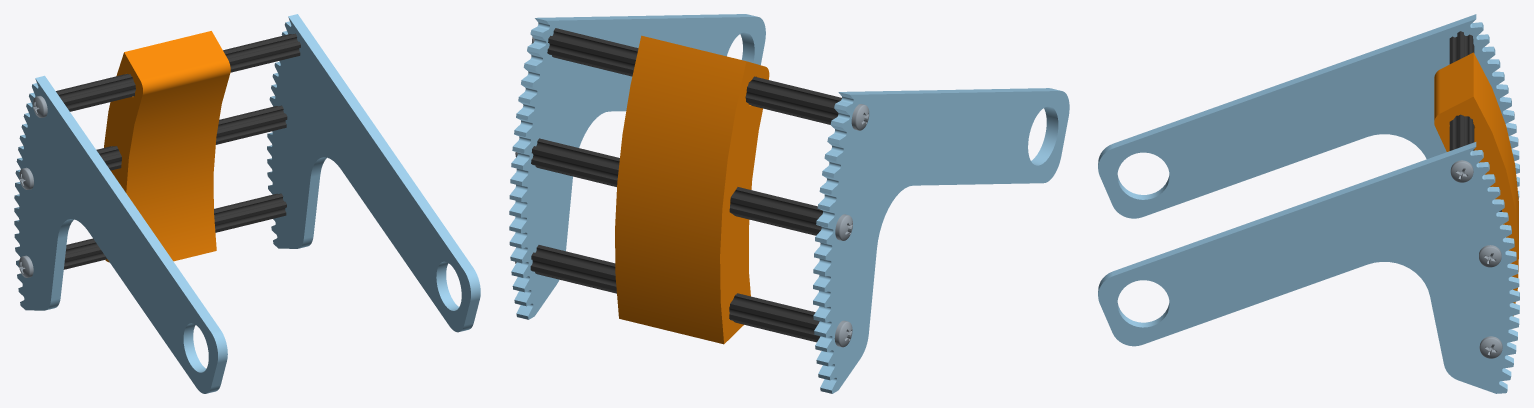
The picture shows the model from 3 angles, left to right: view 1: azimuth 30°, elevation 25°; view 2: azimuth 150°, elevation 25°; view 3: azimuth 270°, elevation 25°; orthographic projection. The views are drawn at different scales.
Visible parts, largest first — view 1: Shooter Rack Plate (×2), Shooter Middle Hood Backing, 1/2" Hex Lite (6.25" L) (×3); view 2: Shooter Rack Plate (×2), Shooter Middle Hood Backing, 1/2" Hex Lite (6.25" L) (×3); view 3: Shooter Rack Plate (×2), Shooter Middle Hood Backing, 1/2" Hex Lite (6.25" L), Pan head machine screw 1/4-20 x 0.625 (×3).
Boxes of the visible parts, <box> form: Shooter Rack Plate (×2): <box>14,14,480,393</box>; Shooter Middle Hood Backing: <box>104,31,230,262</box>; 1/2" Hex Lite (6.25" L) (×3): <box>56,33,300,269</box>; Shooter Rack Plate (×2): <box>509,14,1069,393</box>; Shooter Middle Hood Backing: <box>615,35,769,344</box>; 1/2" Hex Lite (6.25" L) (×3): <box>530,28,841,342</box>; Shooter Rack Plate (×2): <box>1098,14,1519,393</box>; Shooter Middle Hood Backing: <box>1434,52,1518,316</box>; 1/2" Hex Lite (6.25" L): <box>1449,31,1474,150</box>; Pan head machine screw 1/4-20 x 0.625 (×3): <box>1450,160,1502,358</box>.
Size of the model in its own units: 0.1801 by 0.1528 by 0.2306.
